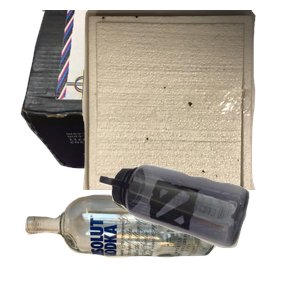cardboard: (18, 10, 258, 171)
glass: (22, 192, 234, 300)
plastic: (97, 162, 300, 300)
trash: (80, 10, 300, 190)
